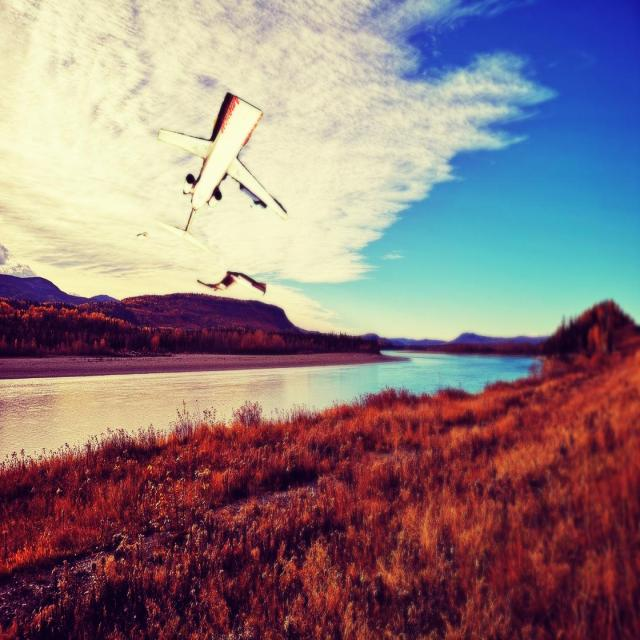airplane: (155, 91, 287, 252), (196, 270, 266, 296)
